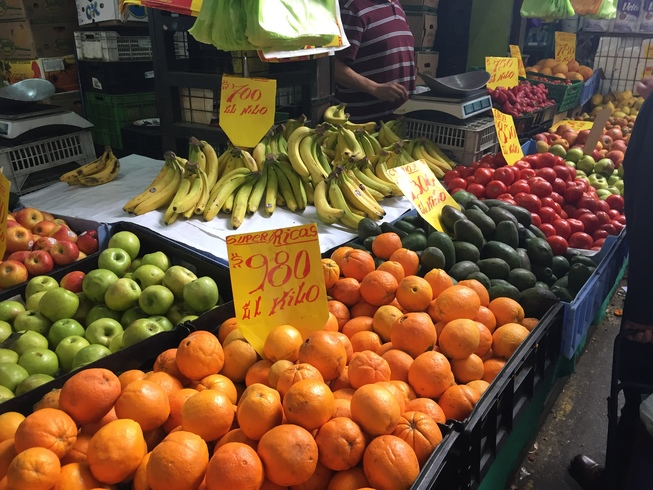precio: (224, 219, 334, 366), (384, 150, 470, 234), (217, 68, 285, 158), (489, 104, 526, 164), (480, 52, 523, 99), (551, 28, 584, 71), (508, 42, 532, 81)
